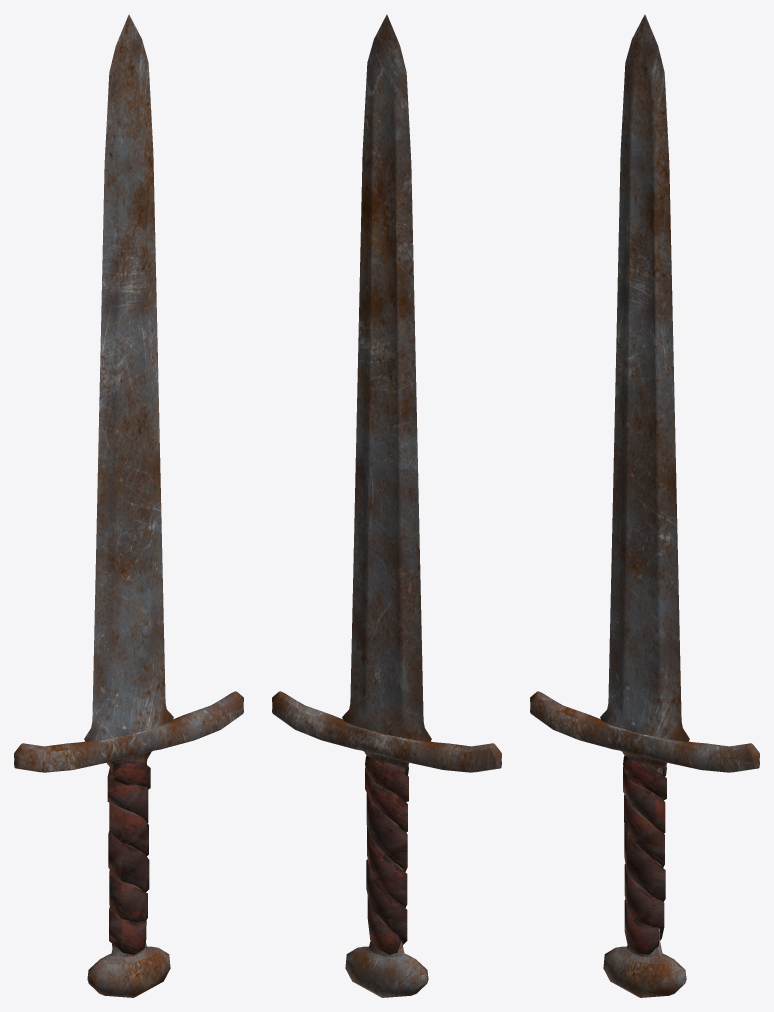
File: sword.fbx
3 views of the same model, side by side, from view 1: azimuth 30°, elevation 25°; view 2: azimuth 150°, elevation 25°; view 3: azimuth 330°, elevation 25° (orthographic).
Visible parts, largest first — view 1: Sword; view 2: Sword; view 3: Sword.
Part boxes in pixels (x1,y1,x2,y2): Sword: (14,14,243,997); Sword: (272,14,501,997); Sword: (530,14,759,997).
Size of the model in its own units: 53.35 by 218 by 8.28.
